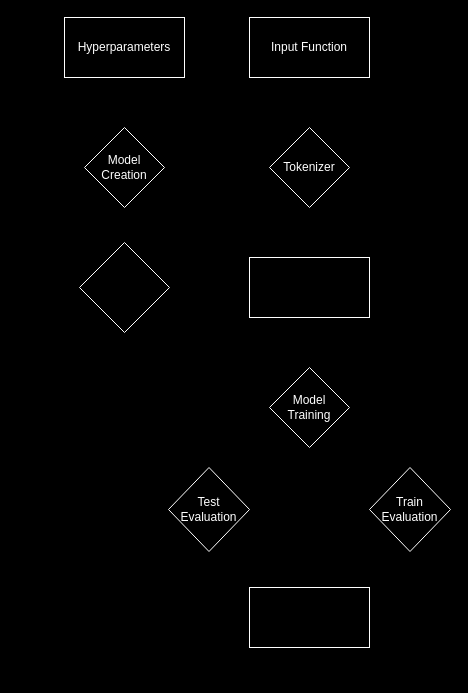
The diagram is 468 pixels wide and 693 high, and some of its shapes have lost their labels. The centre of each missing label's shape, as x and y in pixels:
Hyperparameters and Accuracy Recorded: [309,617]
Integer Sequence: [309,287]
Model Compilation: [124,287]
